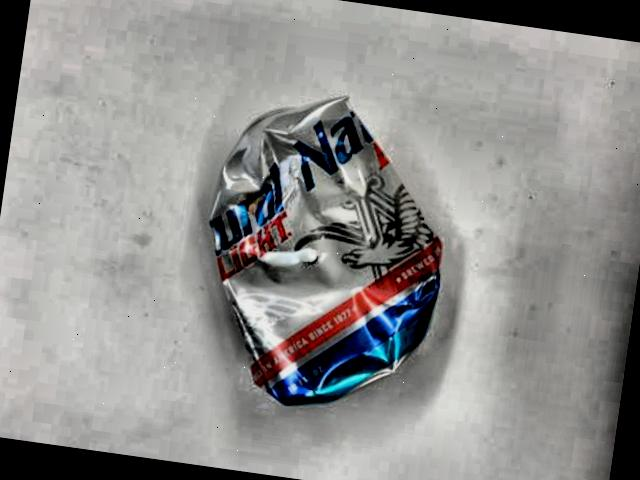Bottles: (156, 74, 472, 443)
